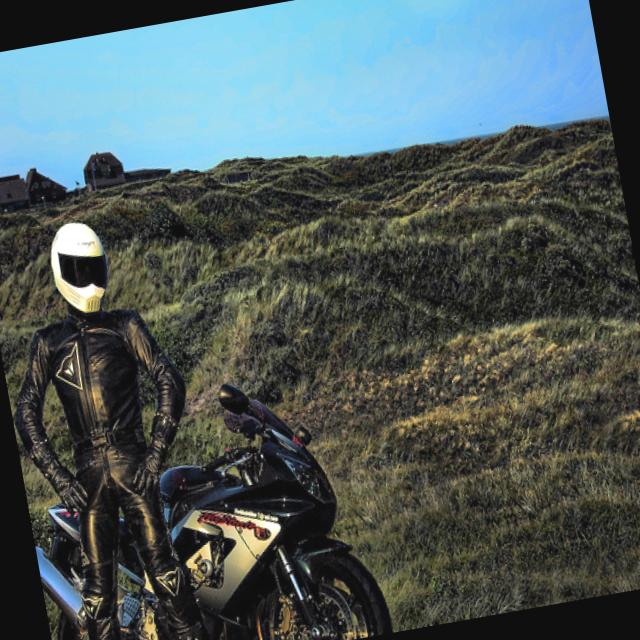Vehicle: (12, 361, 390, 640)
